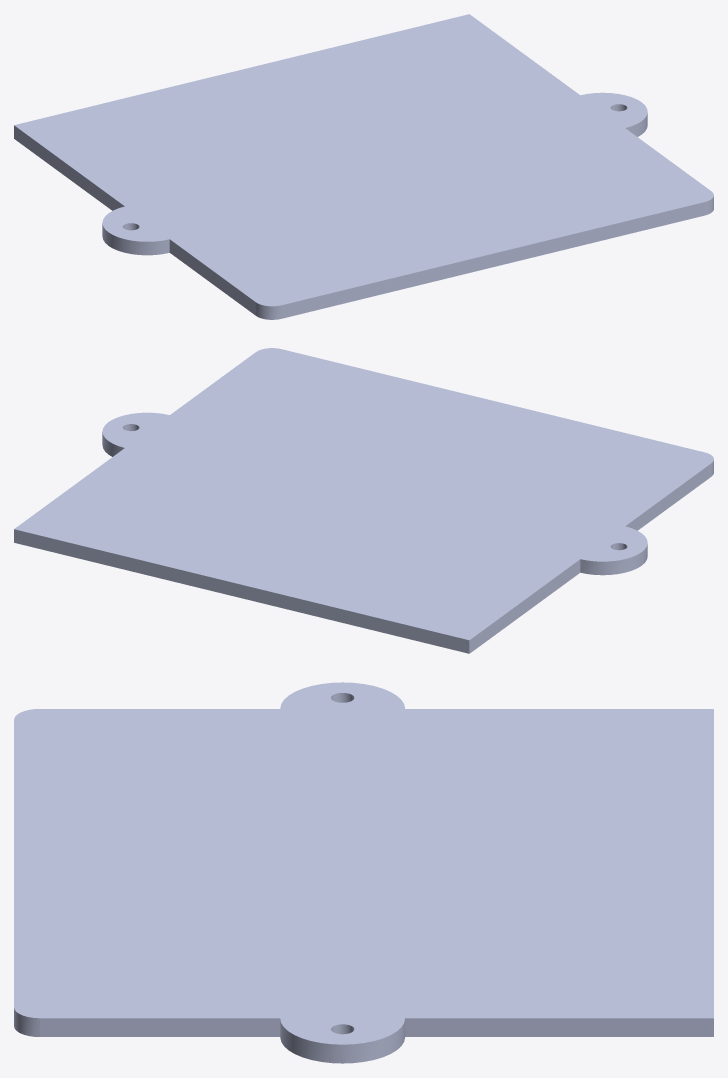
File: CIM_Top_Lid.glb
The picture shows the model from 3 angles, top to bottom: view 1: azimuth 30°, elevation 25°; view 2: azimuth 150°, elevation 25°; view 3: azimuth 270°, elevation 25°; orthographic projection. The views are drawn at different scales.
Visible parts, largest first — view 1: empty_2; view 2: empty_2; view 3: empty_2.
Part boxes in pixels (x1,y1,x2,y2): empty_2: (14,14,713,319); empty_2: (14,348,713,653); empty_2: (14,682,713,1063).
Bounding box in the file's own units: 165 × 4 × 134.
